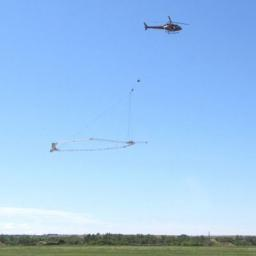helicopter: (145, 18, 189, 36)
